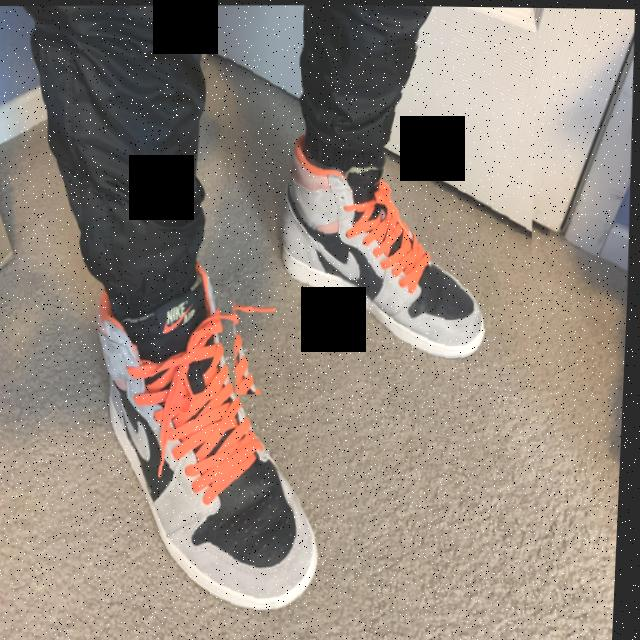shoe: (42, 218, 357, 640), (213, 29, 543, 397)
